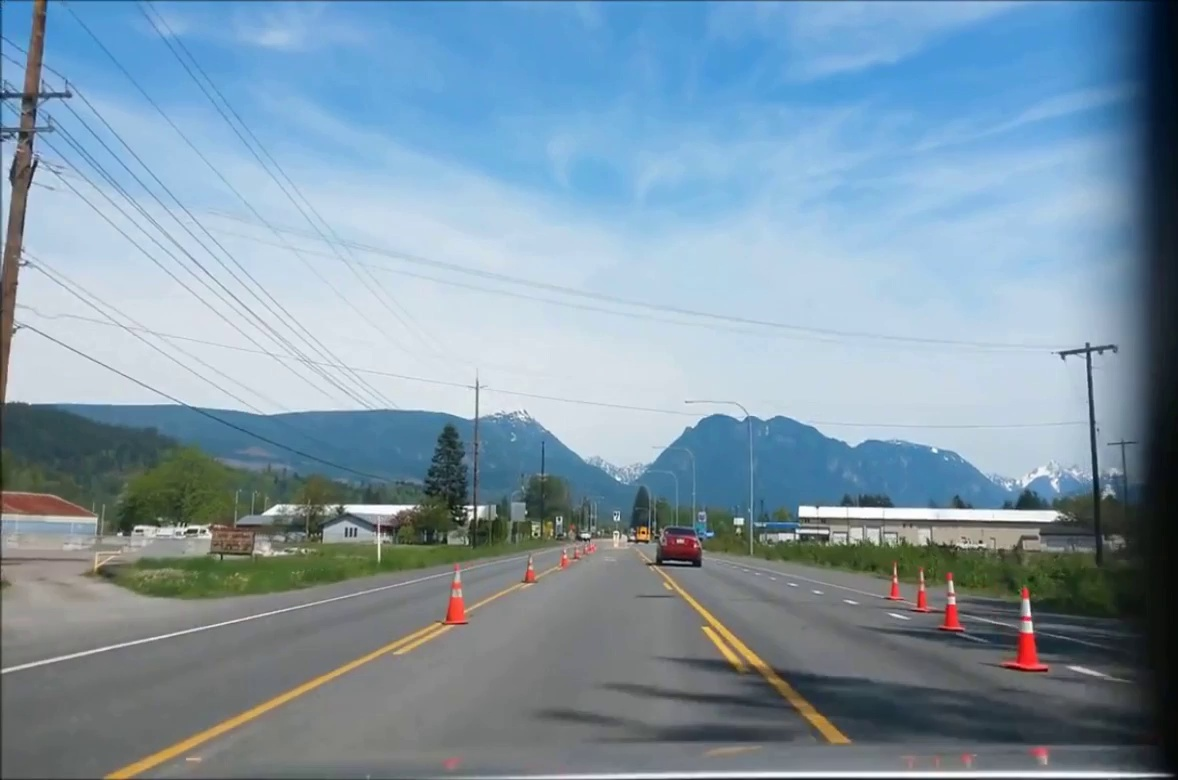Cone: (1014, 585, 1040, 671), (444, 563, 470, 621), (943, 574, 962, 630), (913, 570, 932, 609), (889, 565, 904, 601)
